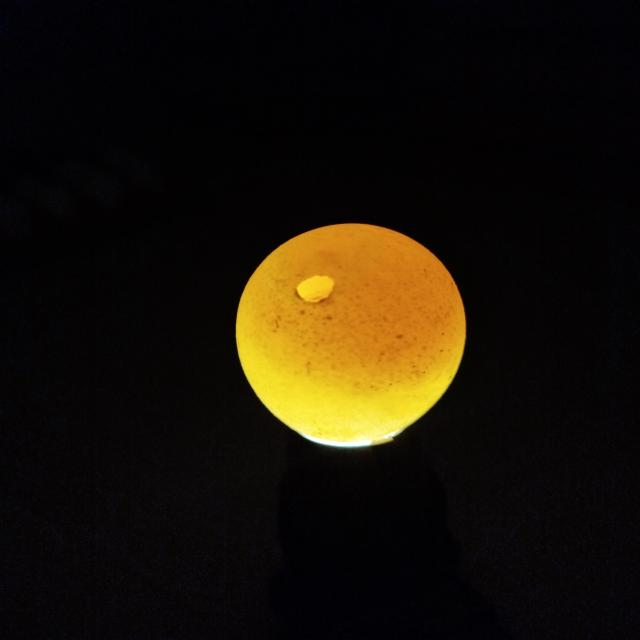Rachadura: (296, 275, 334, 303)
